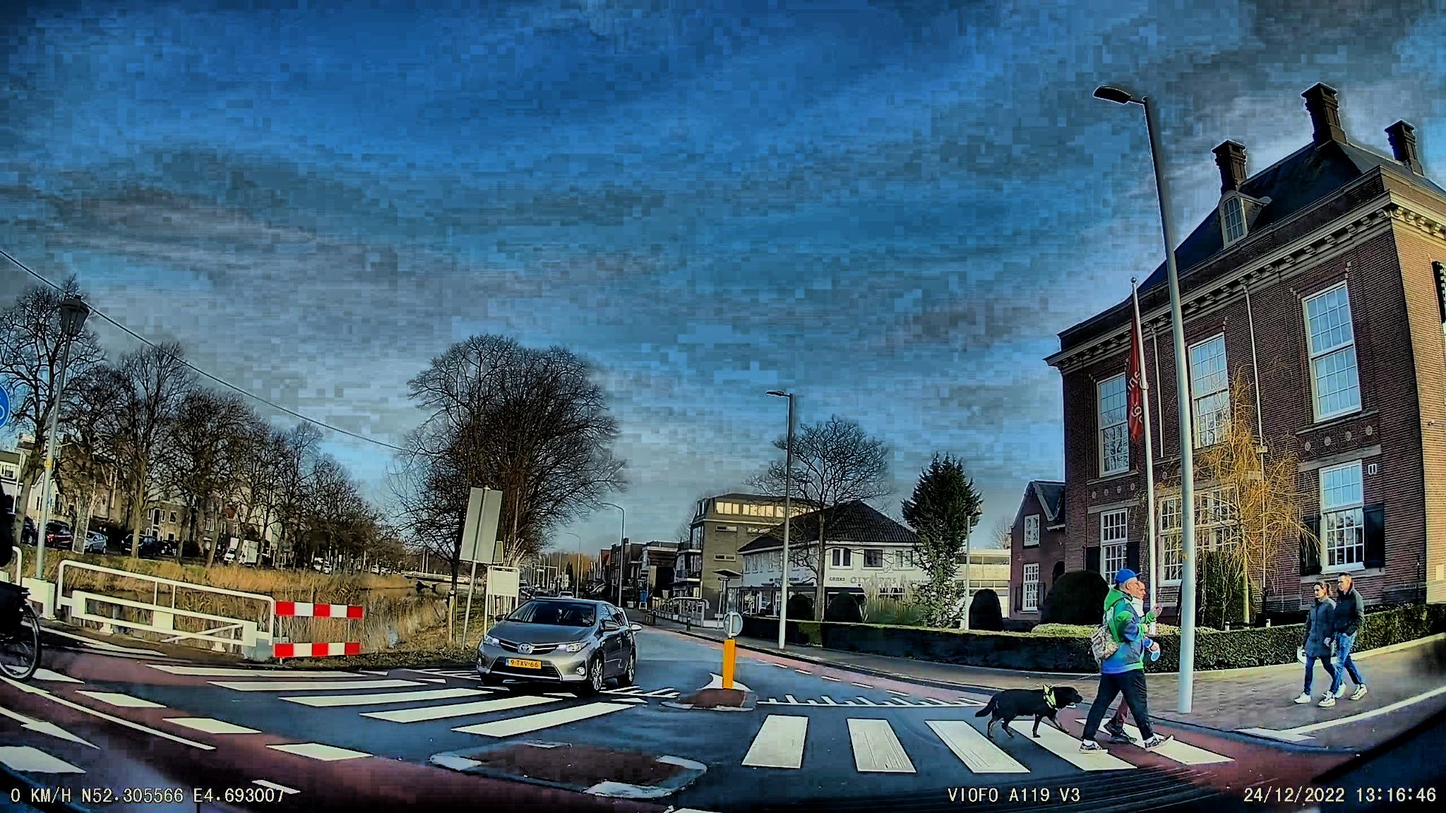Roads: (0, 635, 1408, 813)
